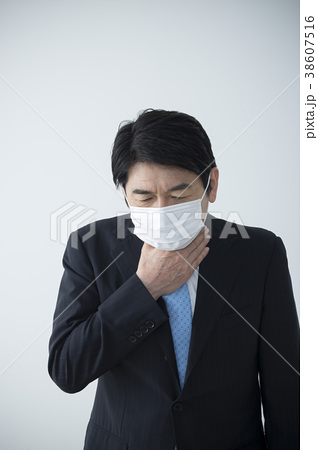mask: (127, 203, 211, 259)
